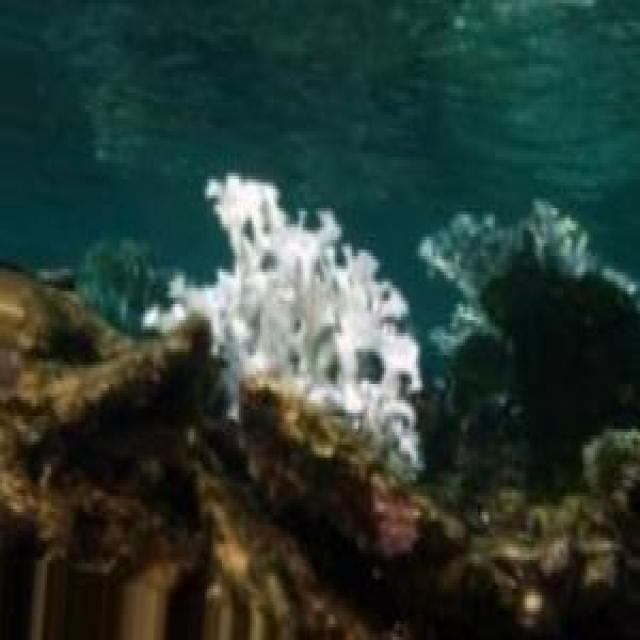Bleached: (144, 180, 419, 465), (227, 199, 396, 414)
